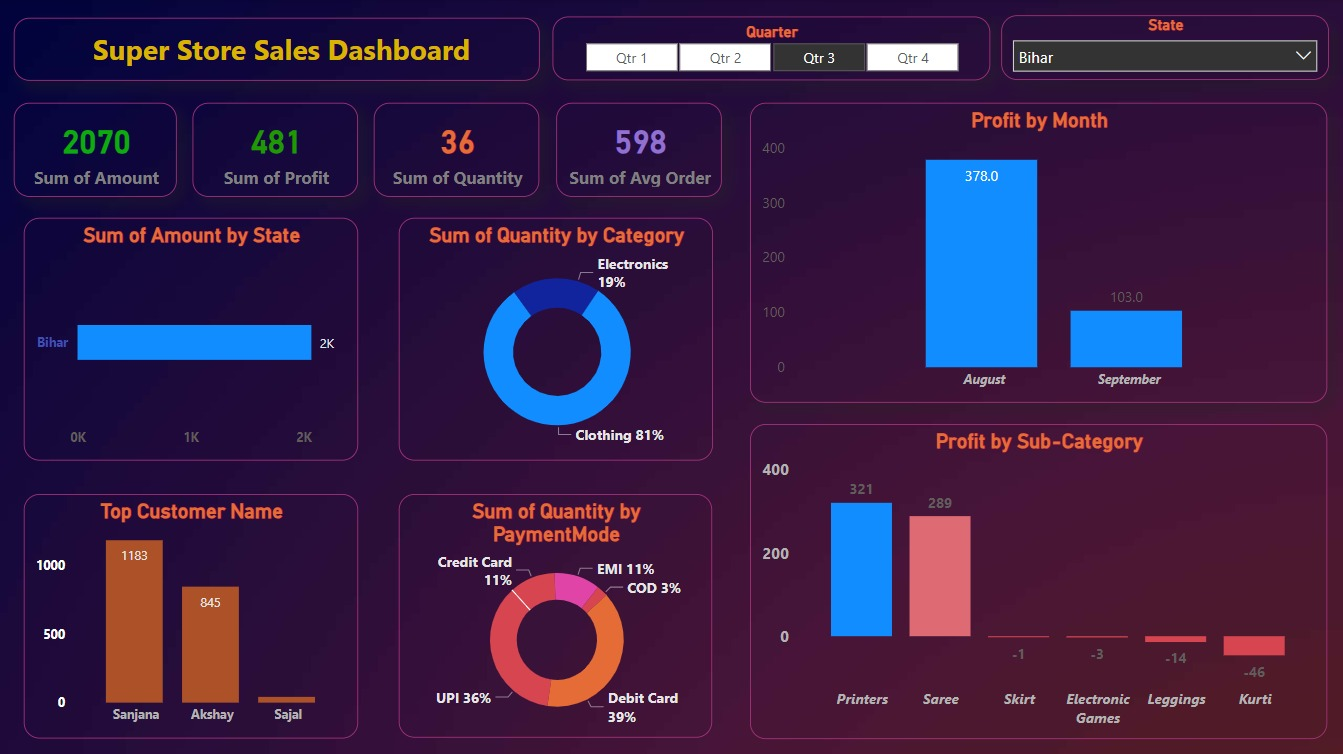

The page's visual inventory and layout, read from the dashboard file:
{"tool":"powerbi","page":{"name":"Page 1","canvas":[1280,720],"ordinal":0},"visuals":[{"type":"textbox","box":[13.5,17.4,500.9,60.4],"z":0,"group":"g1"},{"type":"columnChart","title":"Profit by Month","fields":{"Category":["Orders.Order Date.Variation.Date Hierarchy.Month"],"Y":["Sum(Details.Profit)"]},"box":[714,98.8,549.8,285.6],"z":1000,"group":"g1"},{"type":"columnChart","title":"Profit by Sub-Category","fields":{"Category":["Details.Sub-Category"],"Y":["Sum(Details.Profit)"]},"box":[714,404.1,549.5,300.4],"z":2000,"group":"g1"},{"type":"donutChart","fields":{"Category":["Details.Category"],"Y":["Sum(Details.Quantity)"]},"box":[379.1,208.6,299.2,231.3],"z":3000,"group":"g1"},{"type":"donutChart","fields":{"Y":["Sum(Details.Quantity)"],"Category":["Details.PaymentMode"]},"box":[379.6,471.3,298.7,232.1],"z":4000,"group":"g1"},{"type":"card","fields":{"Values":["Sum(Details.Amount)"]},"box":[13.1,98.9,155,89.4],"z":5000,"group":"g1"},{"type":"card","fields":{"Values":["Sum(Details.Profit)"]},"box":[183.6,98.9,157.3,89.4],"z":6000,"group":"g1"},{"type":"card","fields":{"Values":["Sum(Details.Quantity)"]},"box":[356.4,98.9,157.3,89.4],"z":7000,"group":"g1"},{"type":"card","fields":{"Values":["Sum(Details.Avg Order)"]},"box":[529.2,98.9,157.3,89.4],"z":8000,"group":"g1"},{"type":"clusteredBarChart","fields":{"Category":["Orders.State"],"Y":["Sum(Details.Amount)"]},"box":[22.6,208.6,318.3,231.3],"z":9000,"group":"g1"},{"type":"columnChart","title":"Top Customer Name","fields":{"Category":["Orders.CustomerName"],"Y":["Sum(Details.Amount)"]},"box":[22.6,470.9,318.3,232.4],"z":10000,"group":"g1"},{"type":"slicer","title":"Quarter","fields":{"Values":["Orders.Order Date.Variation.Date Hierarchy.Quarter"]},"box":[525.6,17.1,416.5,60.7],"z":11000,"group":"g1"},{"type":"slicer","title":"State","fields":{"Values":["Orders.State"]},"box":[953.4,15.5,311.8,61.9],"z":13000,"group":"g1"},{"type":"group","id":"g1","title":"Group 1","box":[13.1,15.5,1252,689.1],"z":13001}]}

Visuals, with their boxes in screenshot pixels (x1, y1, x2, y2), scaled from the page's 1280x720 canvas onto the 1343x754 screenshot:
textbox: pyautogui.locateOnScreen(14, 18, 540, 81)
"Profit by Month" columnChart: pyautogui.locateOnScreen(749, 103, 1326, 403)
"Profit by Sub-Category" columnChart: pyautogui.locateOnScreen(749, 423, 1326, 738)
donutChart - Details.Category x Sum(Details.Quantity): pyautogui.locateOnScreen(398, 218, 712, 461)
donutChart - Sum(Details.Quantity) x Details.PaymentMode: pyautogui.locateOnScreen(398, 494, 712, 737)
card - Sum(Details.Amount): pyautogui.locateOnScreen(14, 104, 176, 197)
card - Sum(Details.Profit): pyautogui.locateOnScreen(193, 104, 358, 197)
card - Sum(Details.Quantity): pyautogui.locateOnScreen(374, 104, 539, 197)
card - Sum(Details.Avg Order): pyautogui.locateOnScreen(555, 104, 720, 197)
clusteredBarChart - Orders.State x Sum(Details.Amount): pyautogui.locateOnScreen(24, 218, 358, 461)
"Top Customer Name" columnChart: pyautogui.locateOnScreen(24, 493, 358, 737)
"Quarter" slicer: pyautogui.locateOnScreen(551, 18, 988, 81)
"State" slicer: pyautogui.locateOnScreen(1000, 16, 1327, 81)
"Group 1" group: pyautogui.locateOnScreen(14, 16, 1327, 738)
